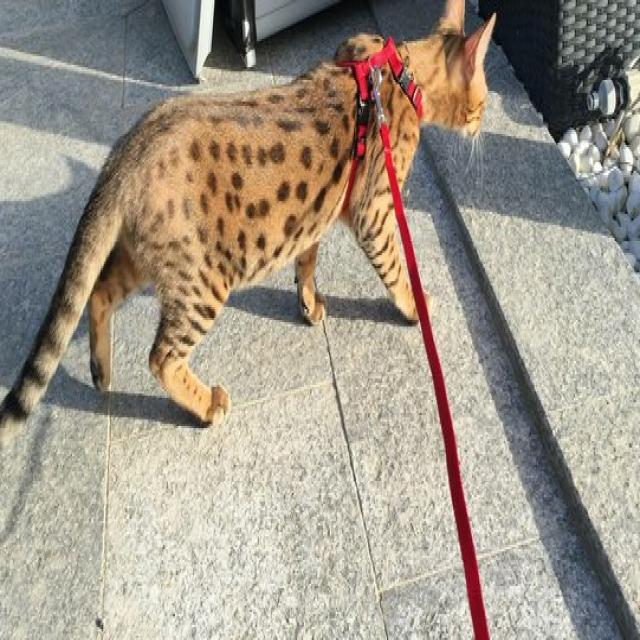Savannah: (0, 0, 498, 480)
